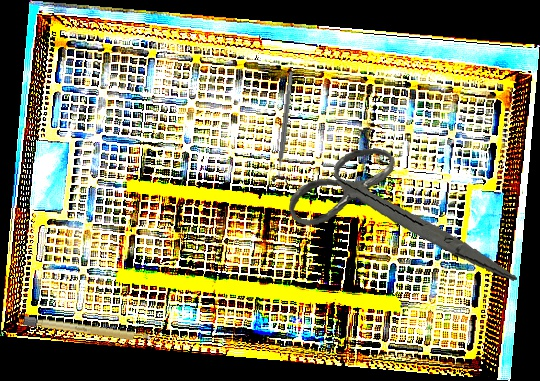Fixation Ring: (271, 70, 300, 185)
Iris Scissors: (283, 134, 518, 304)
Scalpel Handle: (22, 316, 154, 344)
